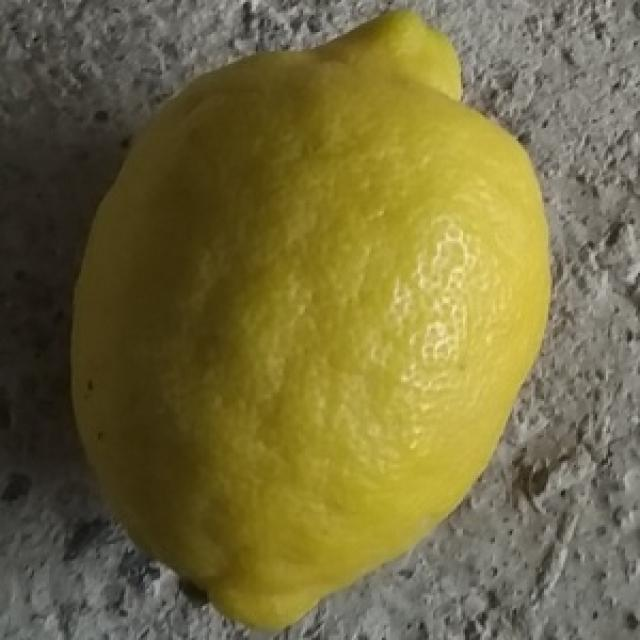Ripe: (61, 5, 556, 635)
